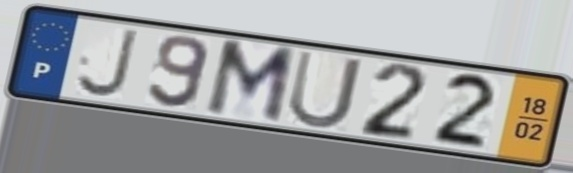2: (356, 61, 431, 143), (430, 71, 503, 154)
9: (145, 33, 211, 112)
J: (72, 26, 141, 101)
M: (201, 37, 300, 128)
U: (284, 48, 367, 132)
